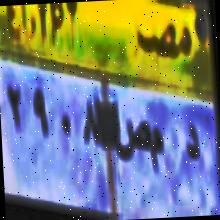0: (56, 104, 72, 148)
2: (5, 72, 25, 140)
8: (80, 98, 98, 150)
9: (30, 80, 49, 137)
daal: (181, 116, 203, 173)
meem: (150, 114, 164, 176)
saad: (111, 107, 151, 173)
